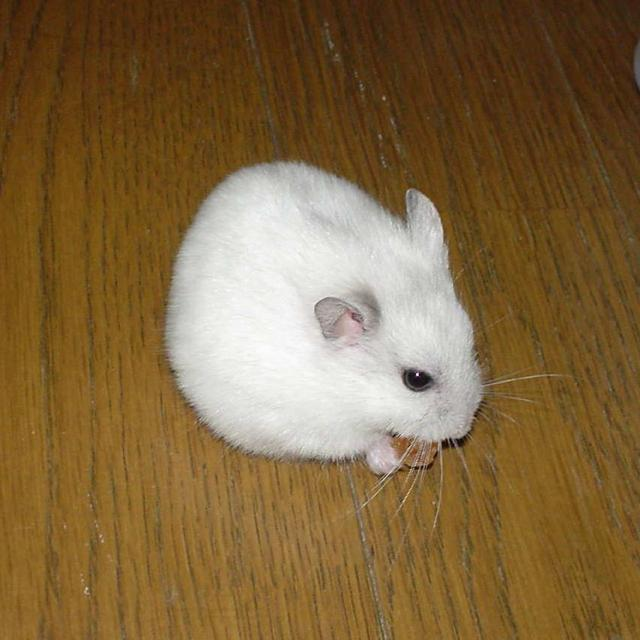hamster: (165, 154, 491, 472)
